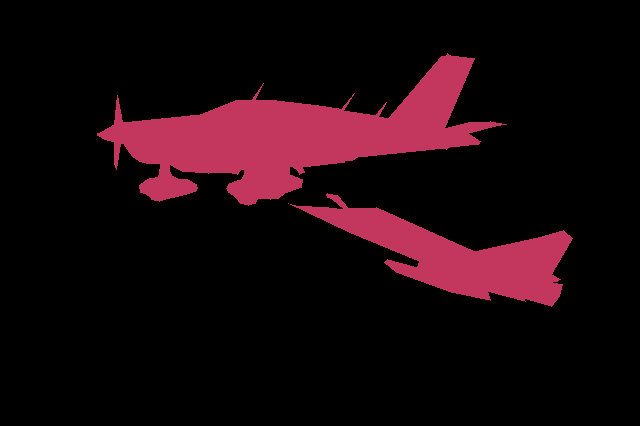Airplane: (97, 53, 507, 205), (288, 193, 573, 306)
